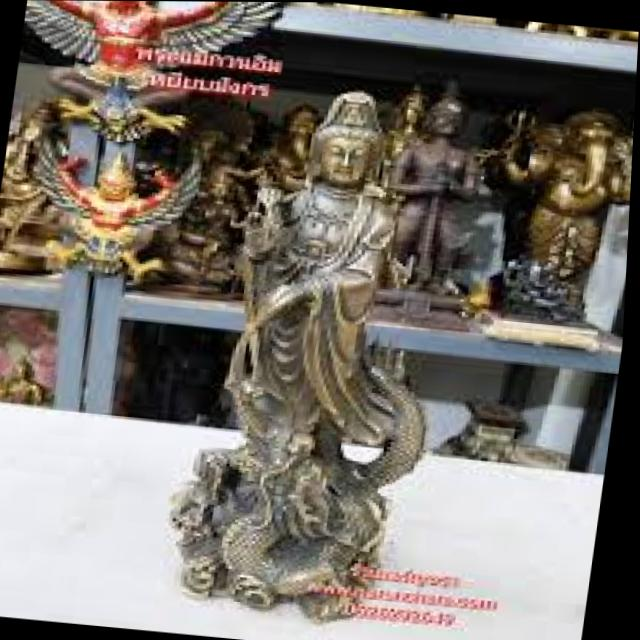Guan Yin: (229, 80, 413, 445)
